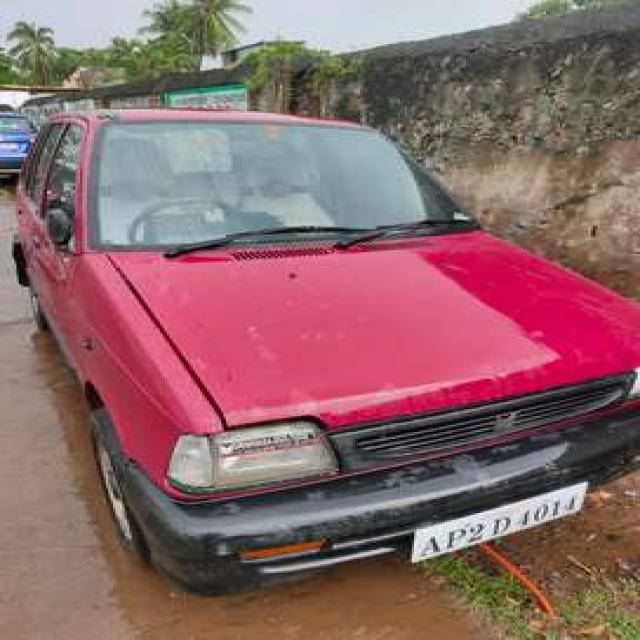license-plate: (410, 480, 584, 562)
